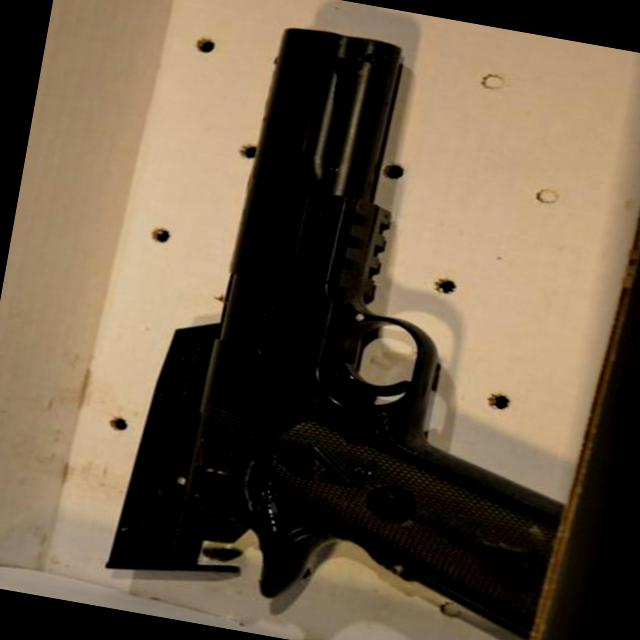handgun: (174, 24, 629, 639)
